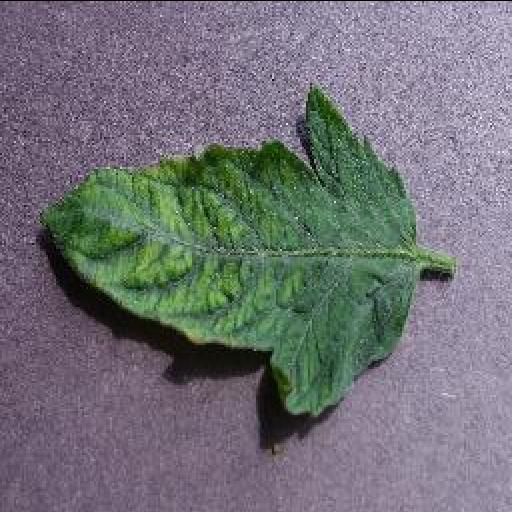Mosaic Virus: (36, 85, 418, 419)
